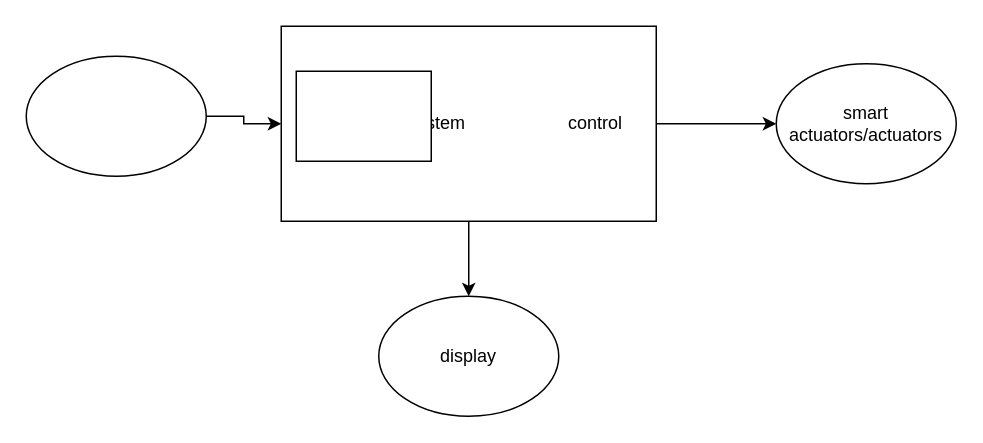
The diagram is 983 pixels wide and 443 high, and some of its shapes have lost their labels. The box of each missing label's shape, as (x1, y1, x2, y2) in pixels:
digital signal processing: (295, 70, 431, 161)
smart sensors/sensors: (25, 55, 206, 176)
